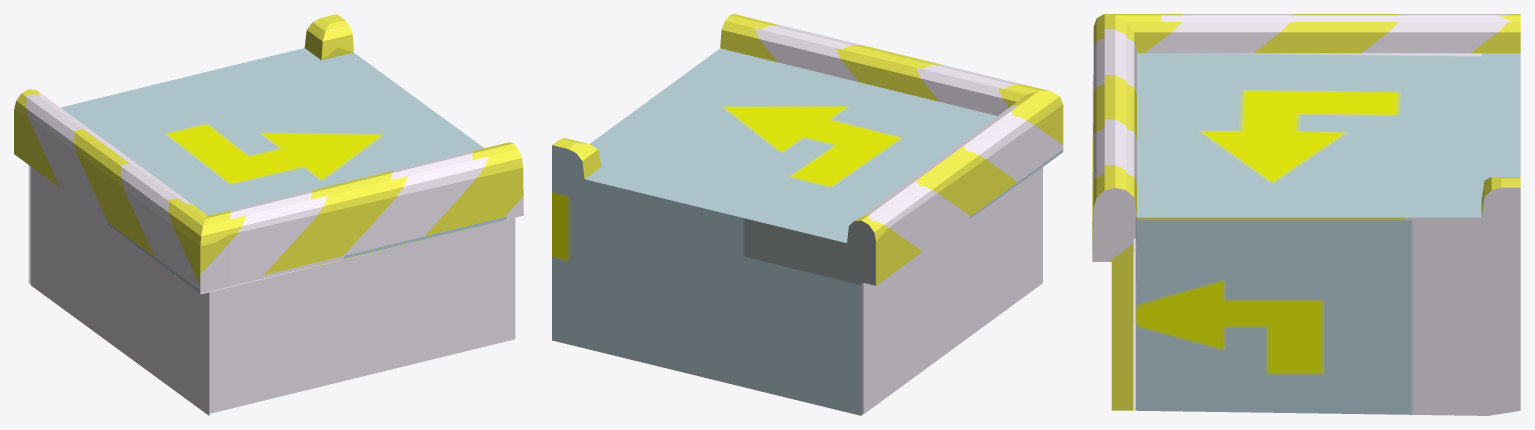
File: EsteiraEsquerda.fbx
3 renders of one model, left to right at view 1: azimuth 30°, elevation 25°; view 2: azimuth 150°, elevation 25°; view 3: azimuth 270°, elevation 25°, orthographic. The views are drawn at different scales.
Parts seen in each view (by area): view 1: Cube.006; view 2: Cube.006; view 3: Cube.006.
Part boxes in pixels (bbox=[...]): Cube.006: bbox=[14, 14, 523, 415]; Cube.006: bbox=[552, 14, 1063, 415]; Cube.006: bbox=[1092, 14, 1520, 415].
Size of the model in its own units: 197 by 116 by 198.
Materials: 1 (1 with a texture image).
